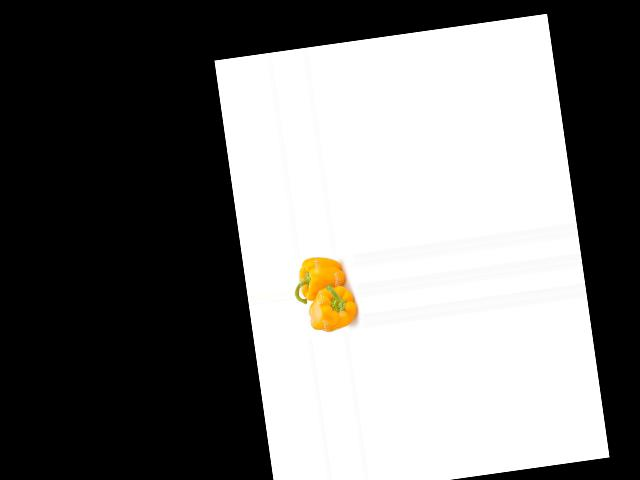bell_pepper: (292, 252, 349, 306)
